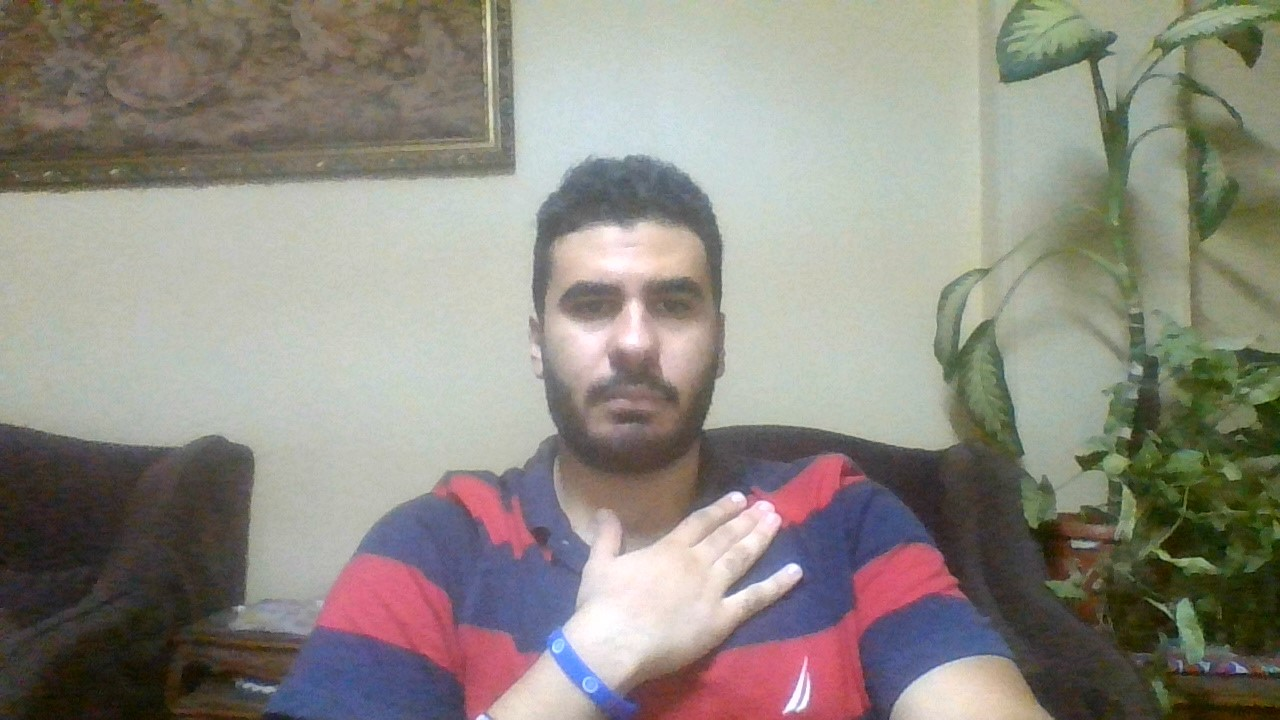please: (555, 488, 830, 677)
